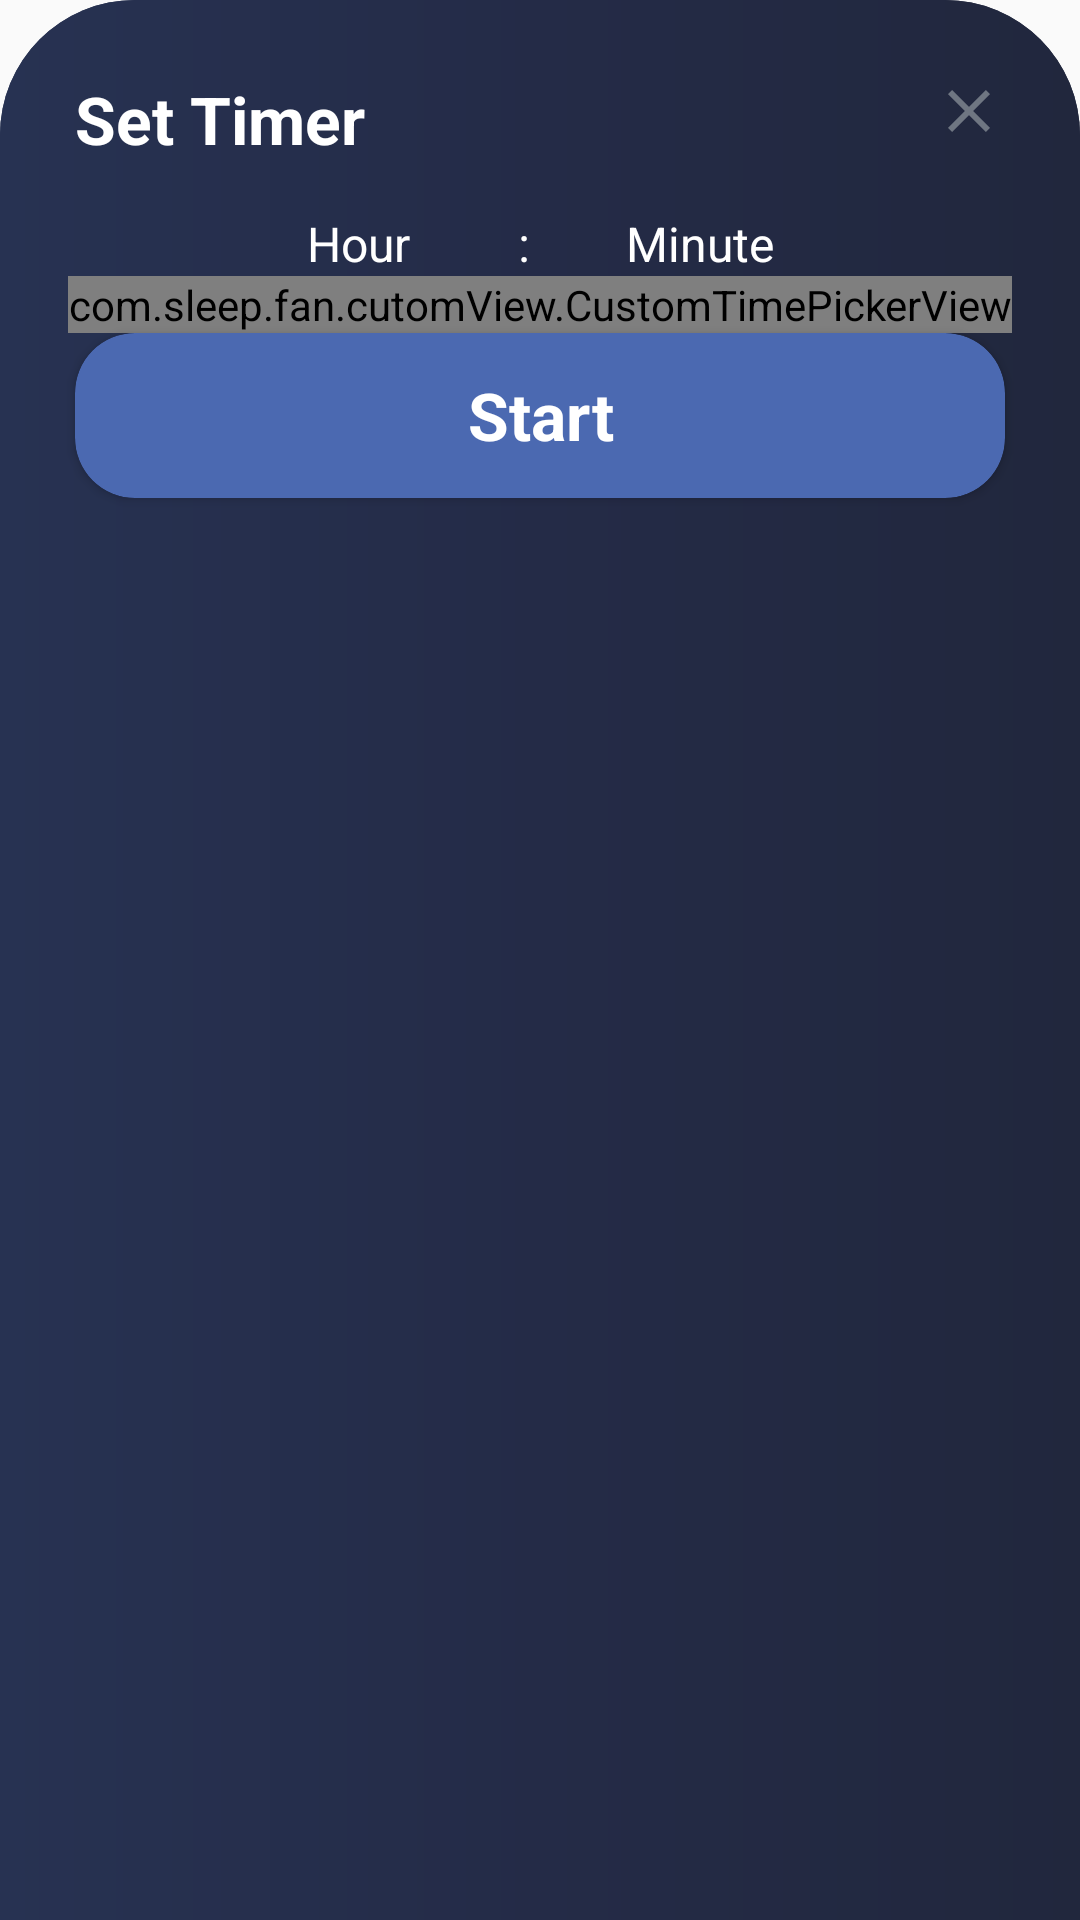

Icon click points for this 1080×1920 phone screenshot, format [x,y]:
close: [969,111]
